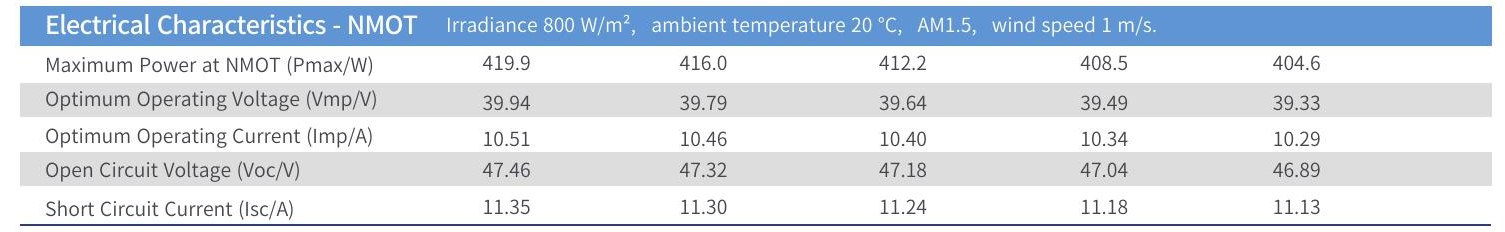table: (8, 36, 1498, 230)
table column: (35, 41, 410, 224), (647, 42, 752, 223), (1055, 38, 1155, 223), (453, 44, 558, 220), (852, 43, 952, 222), (1253, 40, 1342, 223)
table row: (14, 48, 1492, 80), (15, 190, 1494, 220), (15, 120, 1496, 149), (14, 86, 1495, 114), (16, 155, 1499, 180)
